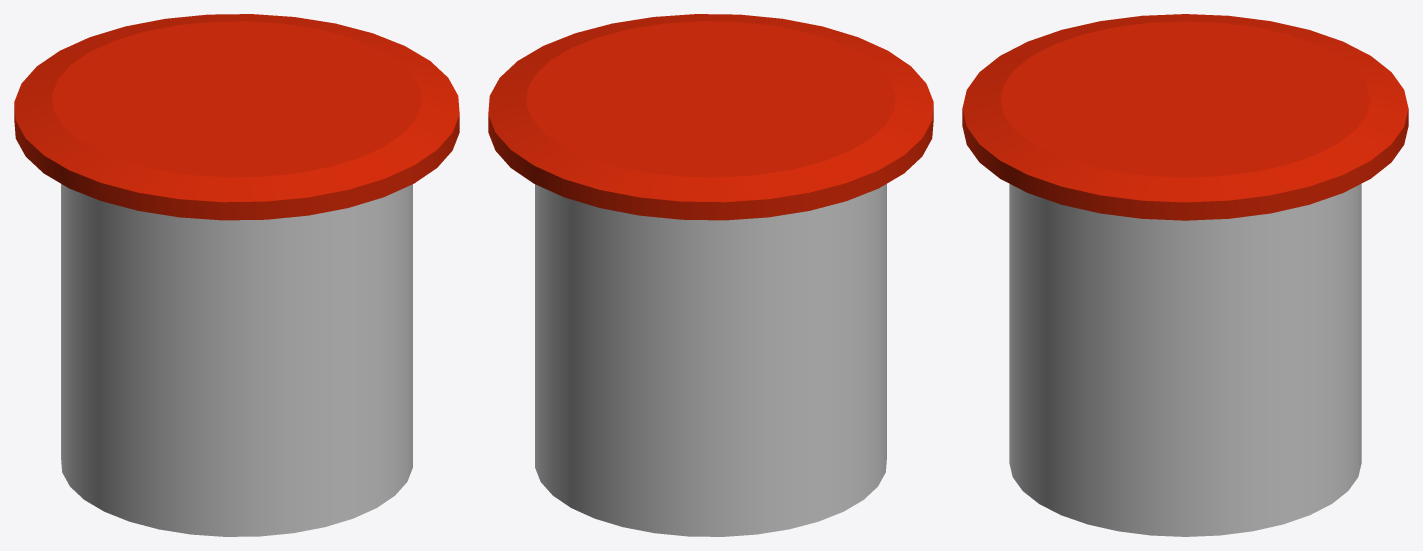
Rendered from 1_podium_low.fbx.
3 renders of one model, left to right at view 1: azimuth 30°, elevation 25°; view 2: azimuth 150°, elevation 25°; view 3: azimuth 270°, elevation 25°, orthographic.
Visible parts, largest first — view 1: 1_low; view 2: 1_low; view 3: 1_low.
Boxes of the visible parts, x1=… form: 1_low: x1=14, y1=14, x2=459, y2=536; 1_low: x1=488, y1=14, x2=933, y2=536; 1_low: x1=962, y1=14, x2=1408, y2=536.
Bounding box in the file's own units: 463 × 416 × 463.
